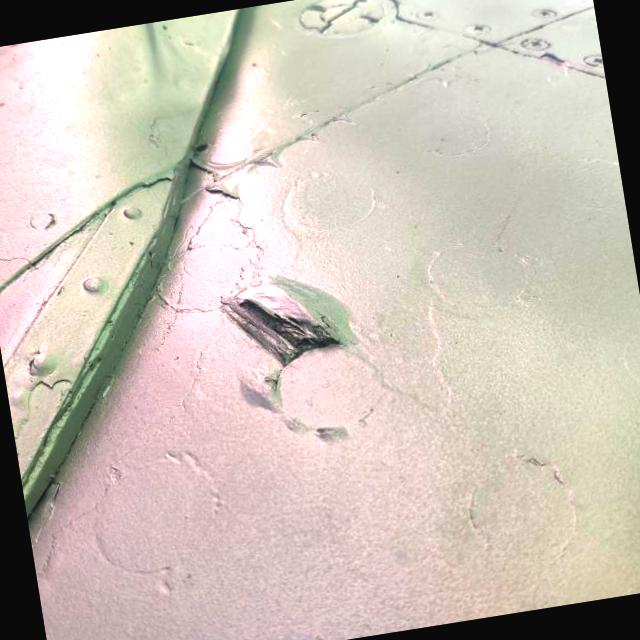paint-off: (213, 272, 354, 391)
